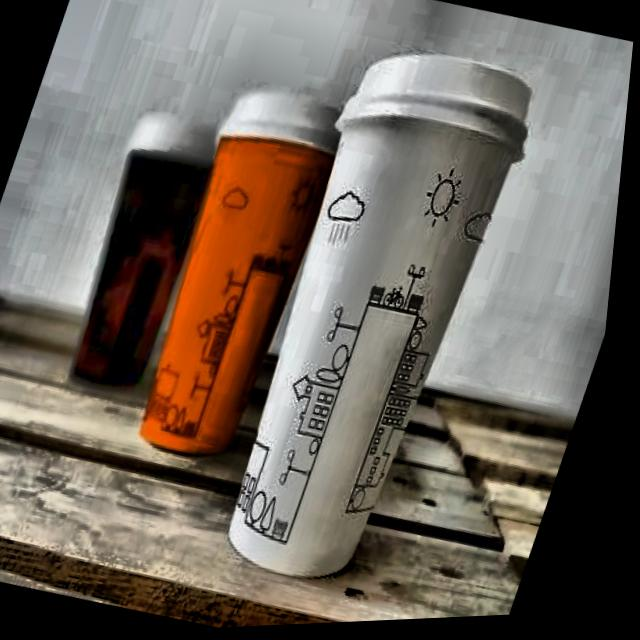Cup: (191, 70, 568, 622), (111, 98, 359, 484), (53, 119, 243, 401)
